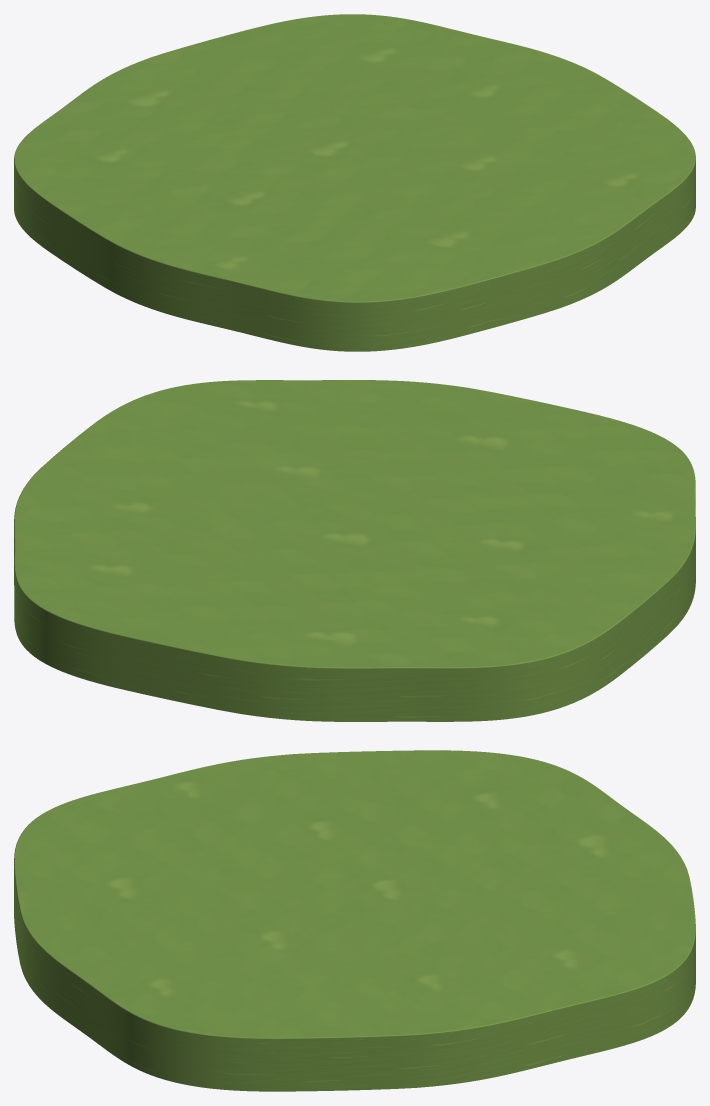
File: starter-14.glb
3 renders of one model, top to bottom at view 1: azimuth 30°, elevation 25°; view 2: azimuth 150°, elevation 25°; view 3: azimuth 270°, elevation 25°, orthographic. The views are drawn at different scales.
Parts seen in each view (by area): view 1: geometry_0; view 2: geometry_0; view 3: geometry_0.
Boxes of the visible parts, left/top/right/bottom form: geometry_0: left=14, top=14, right=695, bottom=351; geometry_0: left=14, top=380, right=695, bottom=721; geometry_0: left=14, top=750, right=695, bottom=1091.
Bounding box in the file's own units: 69.4 × 6 × 69.4.
1 material, 1 textured.
